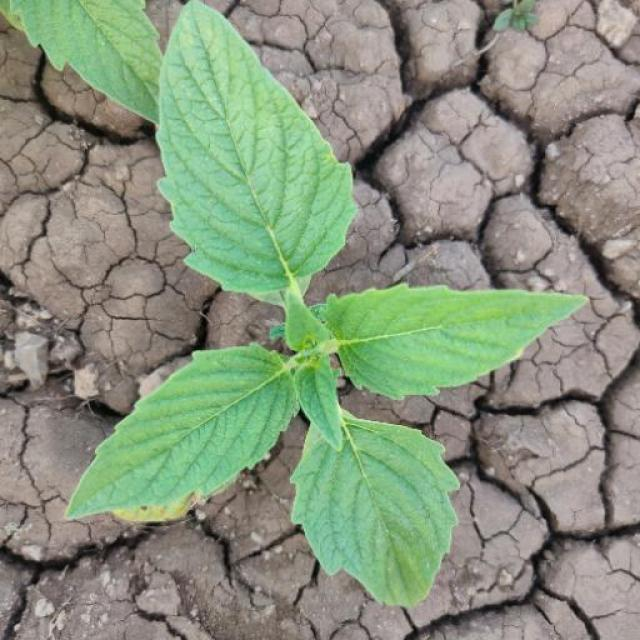crop: (62, 4, 594, 606)
